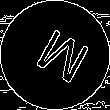M_SW: (22, 21, 88, 89)
